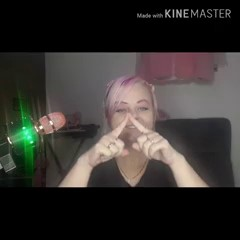E: (86, 111, 177, 172)
